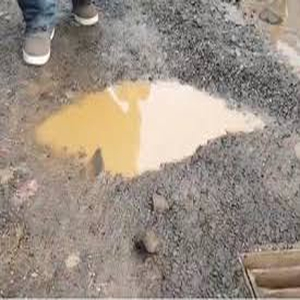pothole: (25, 69, 279, 188)
